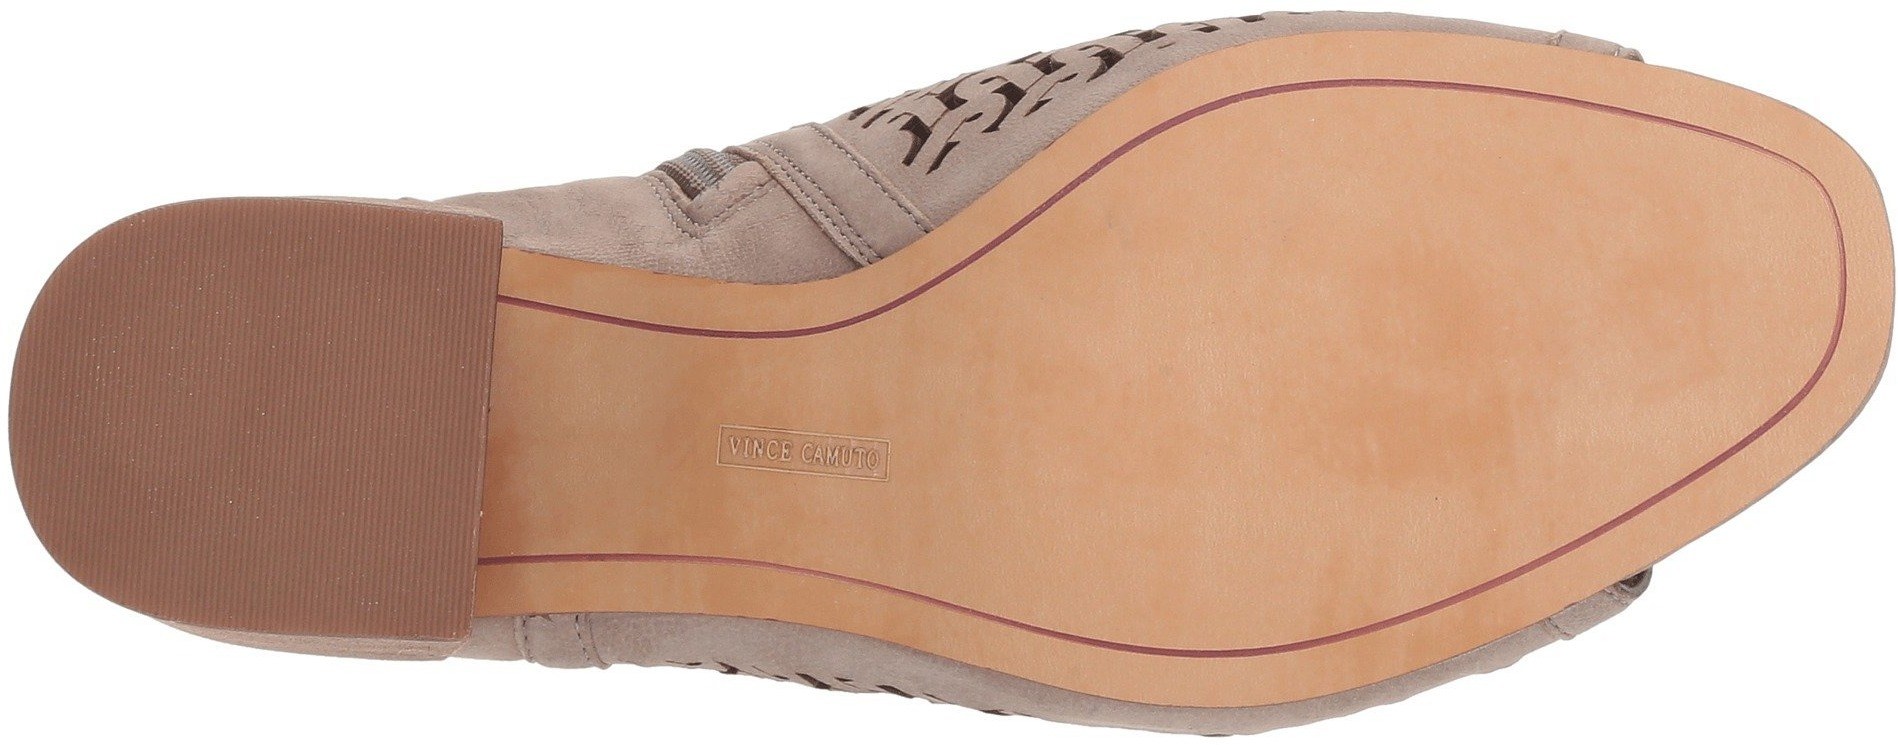exclude: (476, 254, 704, 634)
other: (15, 205, 500, 643), (1307, 139, 1689, 485), (951, 239, 1315, 589), (107, 250, 454, 575)
quad: (719, 385, 888, 545), (697, 418, 910, 510)
text: (788, 418, 886, 502), (707, 422, 793, 493)
